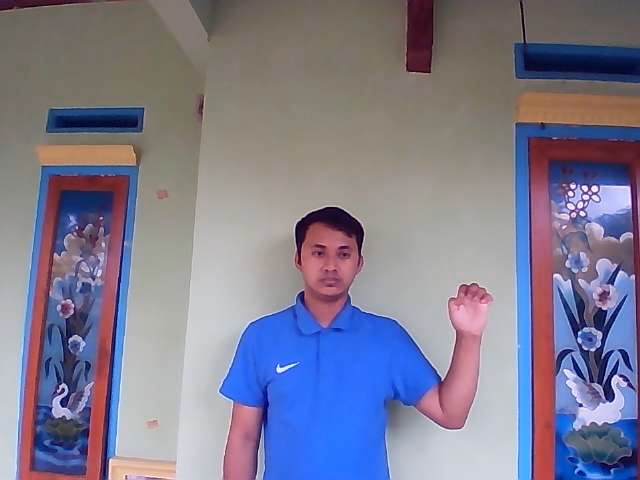E: (447, 281, 493, 335)
